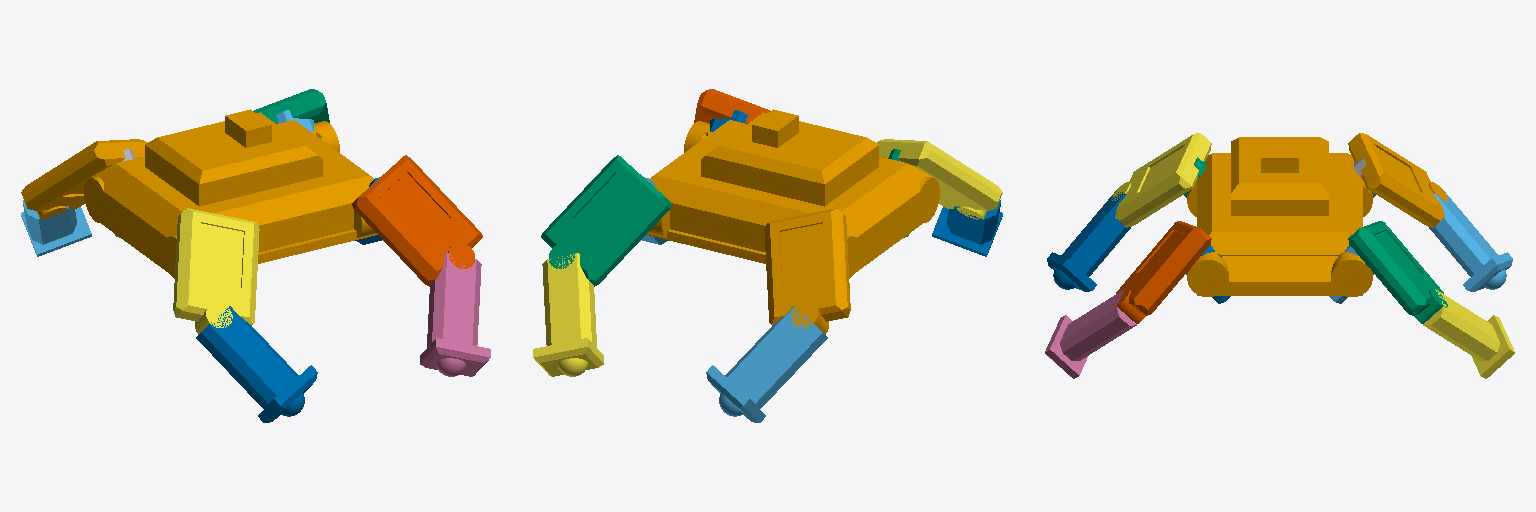
The robot description file, URDF, robot "spyder_quad":
<?xml version="1.0"?>
<!-- FULL 12-DoF spyder, generated by scripts/make_quad_urdf.py. -->
<robot name="spyder_quad">
  <mujoco><compiler meshdir="../models/assets" discardvisual="false" balanceinertia="true" fusestatic="false"/></mujoco>
  <link name="trunk">
    <inertial><origin xyz="0.00000 0.00000 0.00000" rpy="0.00000 -0.00000 0.00000"/><mass value="3.38945"/><inertia ixx="0.053854" iyy="0.107763" izz="0.150545" ixy="0" ixz="0" iyz="0"/></inertial>
    <visual><geometry><mesh filename="trunk.stl"/></geometry></visual>
    <collision><geometry><box size="0.6016 0.4136 0.1400"/></geometry></collision>
  </link>
  <link name="FL_hip">
    <inertial><origin xyz="0.00000 0.00000 0.00000" rpy="0.00000 -0.00000 0.00000"/><mass value="0.17514"/><inertia ixx="0.000619" iyy="0.000292" izz="0.000619" ixy="0" ixz="0" iyz="0"/></inertial>
    <visual><geometry><mesh filename="hip.stl"/></geometry></visual>
    <collision><geometry><box size="0.1000 0.1800 0.1000"/></geometry></collision>
  </link>
  <link name="FL_thigh">
    <inertial><origin xyz="0.00000 0.00000 -0.11000" rpy="0.00000 -0.00000 0.00000"/><mass value="0.27828"/><inertia ixx="0.001220" iyy="0.002050" izz="0.001026" ixy="0" ixz="0" iyz="0"/></inertial>
    <visual><geometry><mesh filename="thigh.stl"/></geometry></visual>
    <collision><origin xyz="0 0 -0.1100"/><geometry><box size="0.2000 0.0650 0.2200"/></geometry></collision>
  </link>
  <link name="FL_shank">
    <inertial><origin xyz="0.00000 0.00000 -0.14706" rpy="0.00000 -0.00000 1.57080"/><mass value="0.19874"/><inertia ixx="0.001531" iyy="0.001433" izz="0.000236" ixy="0" ixz="0" iyz="0"/></inertial>
    <visual><geometry><mesh filename="shank.stl"/></geometry></visual>
    <collision><origin xyz="0 0 -0.1300"/><geometry><box size="0.1050 0.0650 0.2600"/></geometry></collision>
    <collision><origin xyz="0 0 -0.2600"/><geometry><sphere radius="0.04"/></geometry></collision>
  </link>
  <joint name="FL_haa" type="revolute">
    <parent link="trunk"/><child link="FL_hip"/>
    <origin xyz="0.2400 0.1900 -0.0200" rpy="0.78540 0 0"/>
    <axis xyz="1 0 0"/><limit lower="-0.6109" upper="0.6109" effort="80" velocity="12"/>
  </joint>
  <joint name="FL_hfe" type="revolute">
    <parent link="FL_hip"/><child link="FL_thigh"/>
    <origin xyz="0 0.0900 0" rpy="0 -0.43633 0"/>
    <axis xyz="0 1 0"/><limit lower="-1.2217" upper="1.2217" effort="80" velocity="12"/>
  </joint>
  <joint name="FL_kfe" type="revolute">
    <parent link="FL_thigh"/><child link="FL_shank"/>
    <origin xyz="0 0 -0.2200" rpy="0 0.87266 0"/>
    <axis xyz="0 1 0"/><limit lower="-1.2217" upper="1.2217" effort="80" velocity="12"/>
  </joint>
  <link name="FR_hip">
    <inertial><origin xyz="0.00000 0.00000 0.00000" rpy="0.00000 -0.00000 0.00000"/><mass value="0.17514"/><inertia ixx="0.000619" iyy="0.000292" izz="0.000619" ixy="0" ixz="0" iyz="0"/></inertial>
    <visual><geometry><mesh filename="hip.stl"/></geometry></visual>
    <collision><geometry><box size="0.1000 0.1800 0.1000"/></geometry></collision>
  </link>
  <link name="FR_thigh">
    <inertial><origin xyz="0.00000 0.00000 -0.11000" rpy="0.00000 -0.00000 0.00000"/><mass value="0.27828"/><inertia ixx="0.001220" iyy="0.002050" izz="0.001026" ixy="0" ixz="0" iyz="0"/></inertial>
    <visual><geometry><mesh filename="thigh.stl"/></geometry></visual>
    <collision><origin xyz="0 0 -0.1100"/><geometry><box size="0.2000 0.0650 0.2200"/></geometry></collision>
  </link>
  <link name="FR_shank">
    <inertial><origin xyz="0.00000 0.00000 -0.14706" rpy="0.00000 -0.00000 1.57080"/><mass value="0.19874"/><inertia ixx="0.001531" iyy="0.001433" izz="0.000236" ixy="0" ixz="0" iyz="0"/></inertial>
    <visual><geometry><mesh filename="shank.stl"/></geometry></visual>
    <collision><origin xyz="0 0 -0.1300"/><geometry><box size="0.1050 0.0650 0.2600"/></geometry></collision>
    <collision><origin xyz="0 0 -0.2600"/><geometry><sphere radius="0.04"/></geometry></collision>
  </link>
  <joint name="FR_haa" type="revolute">
    <parent link="trunk"/><child link="FR_hip"/>
    <origin xyz="0.2400 -0.1900 -0.0200" rpy="-0.78540 0 0"/>
    <axis xyz="1 0 0"/><limit lower="-0.6109" upper="0.6109" effort="80" velocity="12"/>
  </joint>
  <joint name="FR_hfe" type="revolute">
    <parent link="FR_hip"/><child link="FR_thigh"/>
    <origin xyz="0 -0.0900 0" rpy="0 -0.43633 0"/>
    <axis xyz="0 1 0"/><limit lower="-1.2217" upper="1.2217" effort="80" velocity="12"/>
  </joint>
  <joint name="FR_kfe" type="revolute">
    <parent link="FR_thigh"/><child link="FR_shank"/>
    <origin xyz="0 0 -0.2200" rpy="0 0.87266 0"/>
    <axis xyz="0 1 0"/><limit lower="-1.2217" upper="1.2217" effort="80" velocity="12"/>
  </joint>
  <link name="RL_hip">
    <inertial><origin xyz="0.00000 0.00000 0.00000" rpy="0.00000 -0.00000 0.00000"/><mass value="0.17514"/><inertia ixx="0.000619" iyy="0.000292" izz="0.000619" ixy="0" ixz="0" iyz="0"/></inertial>
    <visual><geometry><mesh filename="hip.stl"/></geometry></visual>
    <collision><geometry><box size="0.1000 0.1800 0.1000"/></geometry></collision>
  </link>
  <link name="RL_thigh">
    <inertial><origin xyz="0.00000 0.00000 -0.11000" rpy="0.00000 -0.00000 0.00000"/><mass value="0.27828"/><inertia ixx="0.001220" iyy="0.002050" izz="0.001026" ixy="0" ixz="0" iyz="0"/></inertial>
    <visual><geometry><mesh filename="thigh.stl"/></geometry></visual>
    <collision><origin xyz="0 0 -0.1100"/><geometry><box size="0.2000 0.0650 0.2200"/></geometry></collision>
  </link>
  <link name="RL_shank">
    <inertial><origin xyz="0.00000 0.00000 -0.14706" rpy="0.00000 -0.00000 1.57080"/><mass value="0.19874"/><inertia ixx="0.001531" iyy="0.001433" izz="0.000236" ixy="0" ixz="0" iyz="0"/></inertial>
    <visual><geometry><mesh filename="shank.stl"/></geometry></visual>
    <collision><origin xyz="0 0 -0.1300"/><geometry><box size="0.1050 0.0650 0.2600"/></geometry></collision>
    <collision><origin xyz="0 0 -0.2600"/><geometry><sphere radius="0.04"/></geometry></collision>
  </link>
  <joint name="RL_haa" type="revolute">
    <parent link="trunk"/><child link="RL_hip"/>
    <origin xyz="-0.2400 0.1900 -0.0200" rpy="0.78540 0 0"/>
    <axis xyz="1 0 0"/><limit lower="-0.6109" upper="0.6109" effort="80" velocity="12"/>
  </joint>
  <joint name="RL_hfe" type="revolute">
    <parent link="RL_hip"/><child link="RL_thigh"/>
    <origin xyz="0 0.0900 0" rpy="0 0.43633 0"/>
    <axis xyz="0 1 0"/><limit lower="-1.2217" upper="1.2217" effort="80" velocity="12"/>
  </joint>
  <joint name="RL_kfe" type="revolute">
    <parent link="RL_thigh"/><child link="RL_shank"/>
    <origin xyz="0 0 -0.2200" rpy="0 -0.87266 0"/>
    <axis xyz="0 1 0"/><limit lower="-1.2217" upper="1.2217" effort="80" velocity="12"/>
  </joint>
  <link name="RR_hip">
    <inertial><origin xyz="0.00000 0.00000 0.00000" rpy="0.00000 -0.00000 0.00000"/><mass value="0.17514"/><inertia ixx="0.000619" iyy="0.000292" izz="0.000619" ixy="0" ixz="0" iyz="0"/></inertial>
    <visual><geometry><mesh filename="hip.stl"/></geometry></visual>
    <collision><geometry><box size="0.1000 0.1800 0.1000"/></geometry></collision>
  </link>
  <link name="RR_thigh">
    <inertial><origin xyz="0.00000 0.00000 -0.11000" rpy="0.00000 -0.00000 0.00000"/><mass value="0.27828"/><inertia ixx="0.001220" iyy="0.002050" izz="0.001026" ixy="0" ixz="0" iyz="0"/></inertial>
    <visual><geometry><mesh filename="thigh.stl"/></geometry></visual>
    <collision><origin xyz="0 0 -0.1100"/><geometry><box size="0.2000 0.0650 0.2200"/></geometry></collision>
  </link>
  <link name="RR_shank">
    <inertial><origin xyz="0.00000 0.00000 -0.14706" rpy="0.00000 -0.00000 1.57080"/><mass value="0.19874"/><inertia ixx="0.001531" iyy="0.001433" izz="0.000236" ixy="0" ixz="0" iyz="0"/></inertial>
    <visual><geometry><mesh filename="shank.stl"/></geometry></visual>
    <collision><origin xyz="0 0 -0.1300"/><geometry><box size="0.1050 0.0650 0.2600"/></geometry></collision>
    <collision><origin xyz="0 0 -0.2600"/><geometry><sphere radius="0.04"/></geometry></collision>
  </link>
  <joint name="RR_haa" type="revolute">
    <parent link="trunk"/><child link="RR_hip"/>
    <origin xyz="-0.2400 -0.1900 -0.0200" rpy="-0.78540 0 0"/>
    <axis xyz="1 0 0"/><limit lower="-0.6109" upper="0.6109" effort="80" velocity="12"/>
  </joint>
  <joint name="RR_hfe" type="revolute">
    <parent link="RR_hip"/><child link="RR_thigh"/>
    <origin xyz="0 -0.0900 0" rpy="0 0.43633 0"/>
    <axis xyz="0 1 0"/><limit lower="-1.2217" upper="1.2217" effort="80" velocity="12"/>
  </joint>
  <joint name="RR_kfe" type="revolute">
    <parent link="RR_thigh"/><child link="RR_shank"/>
    <origin xyz="0 0 -0.2200" rpy="0 -0.87266 0"/>
    <axis xyz="0 1 0"/><limit lower="-1.2217" upper="1.2217" effort="80" velocity="12"/>
  </joint>
</robot>

--- What the picture shows (computed from the rendered views, not written in the file) ---
The picture shows the robot from 3 angles, left to right: view 1: azimuth 30°, elevation 25°; view 2: azimuth 150°, elevation 25°; view 3: azimuth 270°, elevation 25°; orthographic projection.
Model spyder_quad with 13 links and 12 joints (12 revolute), rooted at trunk, posed all joints at 0.
Links seen in each view (by area): view 1: trunk, FR_thigh, RR_thigh, RR_shank, FR_shank, RL_thigh, RL_shank, FL_thigh; view 2: trunk, RL_thigh, FL_thigh, RL_shank, FL_shank, RR_thigh, RR_shank, FR_thigh; view 3: trunk, FL_thigh, FR_thigh, RL_thigh, RR_thigh, FR_shank, RR_shank, FL_shank, RL_shank.
Boxes of the visible links, bbox=[...] form: trunk: bbox=[84, 109, 377, 278]; FR_thigh: bbox=[352, 155, 482, 286]; RR_thigh: bbox=[173, 208, 259, 334]; RR_shank: bbox=[196, 306, 317, 422]; FR_shank: bbox=[420, 253, 490, 376]; RL_thigh: bbox=[21, 139, 146, 219]; RL_shank: bbox=[21, 200, 91, 256]; FL_thigh: bbox=[253, 89, 329, 123]; trunk: bbox=[646, 109, 939, 278]; RL_thigh: bbox=[764, 208, 850, 334]; FL_thigh: bbox=[541, 155, 671, 286]; RL_shank: bbox=[706, 306, 827, 422]; FL_shank: bbox=[533, 253, 603, 376]; RR_thigh: bbox=[877, 139, 1002, 219]; RR_shank: bbox=[932, 200, 1002, 256]; FR_thigh: bbox=[694, 89, 770, 123]; trunk: bbox=[1187, 137, 1372, 296]; FL_thigh: bbox=[1348, 221, 1447, 323]; FR_thigh: bbox=[1112, 221, 1211, 323]; RL_thigh: bbox=[1348, 133, 1447, 227]; RR_thigh: bbox=[1112, 133, 1211, 227]; FR_shank: bbox=[1045, 289, 1136, 378]; RR_shank: bbox=[1047, 190, 1130, 291]; FL_shank: bbox=[1423, 289, 1514, 378]; RL_shank: bbox=[1429, 190, 1512, 291].
Bounding box of the posed robot: 0.8371 × 1.25 × 0.5205 m (x, y, z).
13 mesh visuals loaded from 4 distinct referenced files (4 binary STL).
